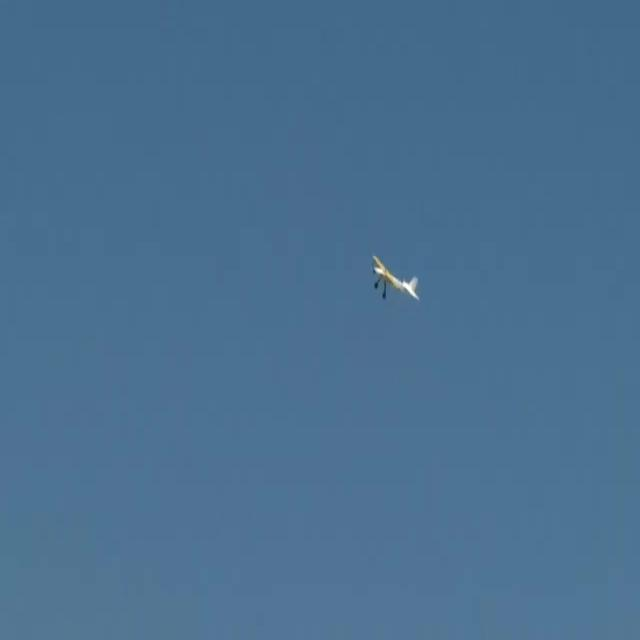iha: (364, 254, 414, 305)
